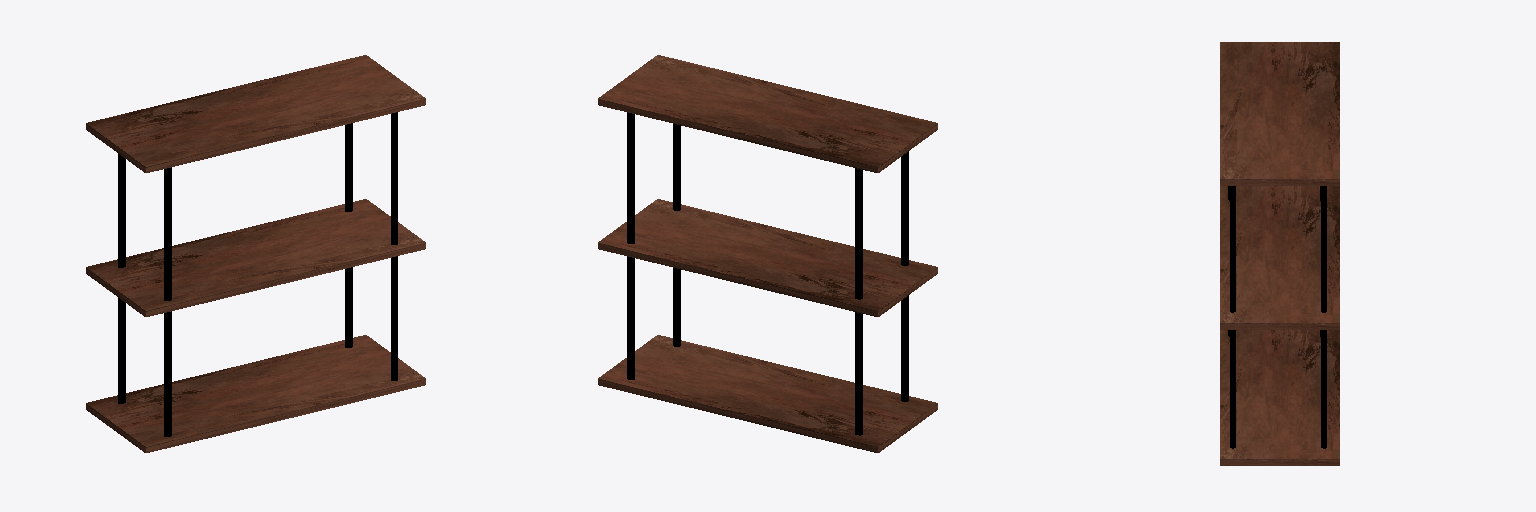
The picture shows the model from 3 angles: view 1: azimuth 30°, elevation 25°; view 2: azimuth 150°, elevation 25°; view 3: azimuth 270°, elevation 25°; orthographic projection.
Parts seen in each view (by area): view 1: group2_pasted__pCylinder1; view 2: group2_pasted__pCylinder1; view 3: group2_pasted__pCylinder1.
Boxes of the visible parts, box(x1,y1,x2,y2) form: group2_pasted__pCylinder1: box(86, 55, 425, 452); group2_pasted__pCylinder1: box(598, 55, 937, 452); group2_pasted__pCylinder1: box(1220, 42, 1339, 465).
Size of the model in its own units: 2.49 by 2.46 by 0.9225.
Materials: 2 (1 with a texture image).